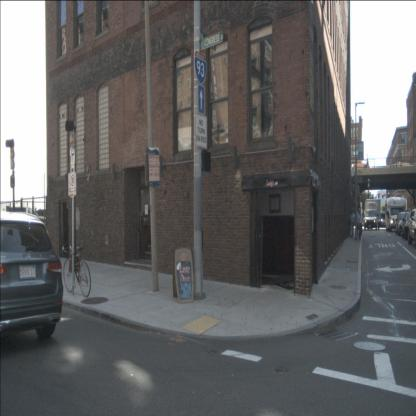human-pedestrian-adult: (348, 208, 356, 240), (357, 207, 363, 241), (356, 207, 362, 240)
vehicle-bicycle: (62, 240, 91, 298)
vehicle-bus-rigid: (385, 196, 406, 232)
vehicle-car: (0, 211, 64, 341), (401, 211, 416, 241), (395, 211, 411, 236), (407, 209, 416, 248), (380, 212, 390, 228)
vehicle-truck: (363, 198, 381, 231)
